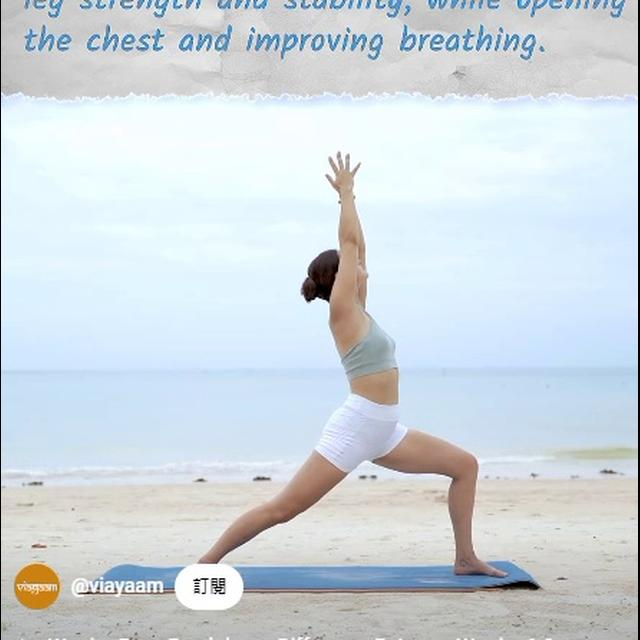Warrior_I: (165, 127, 532, 577)
